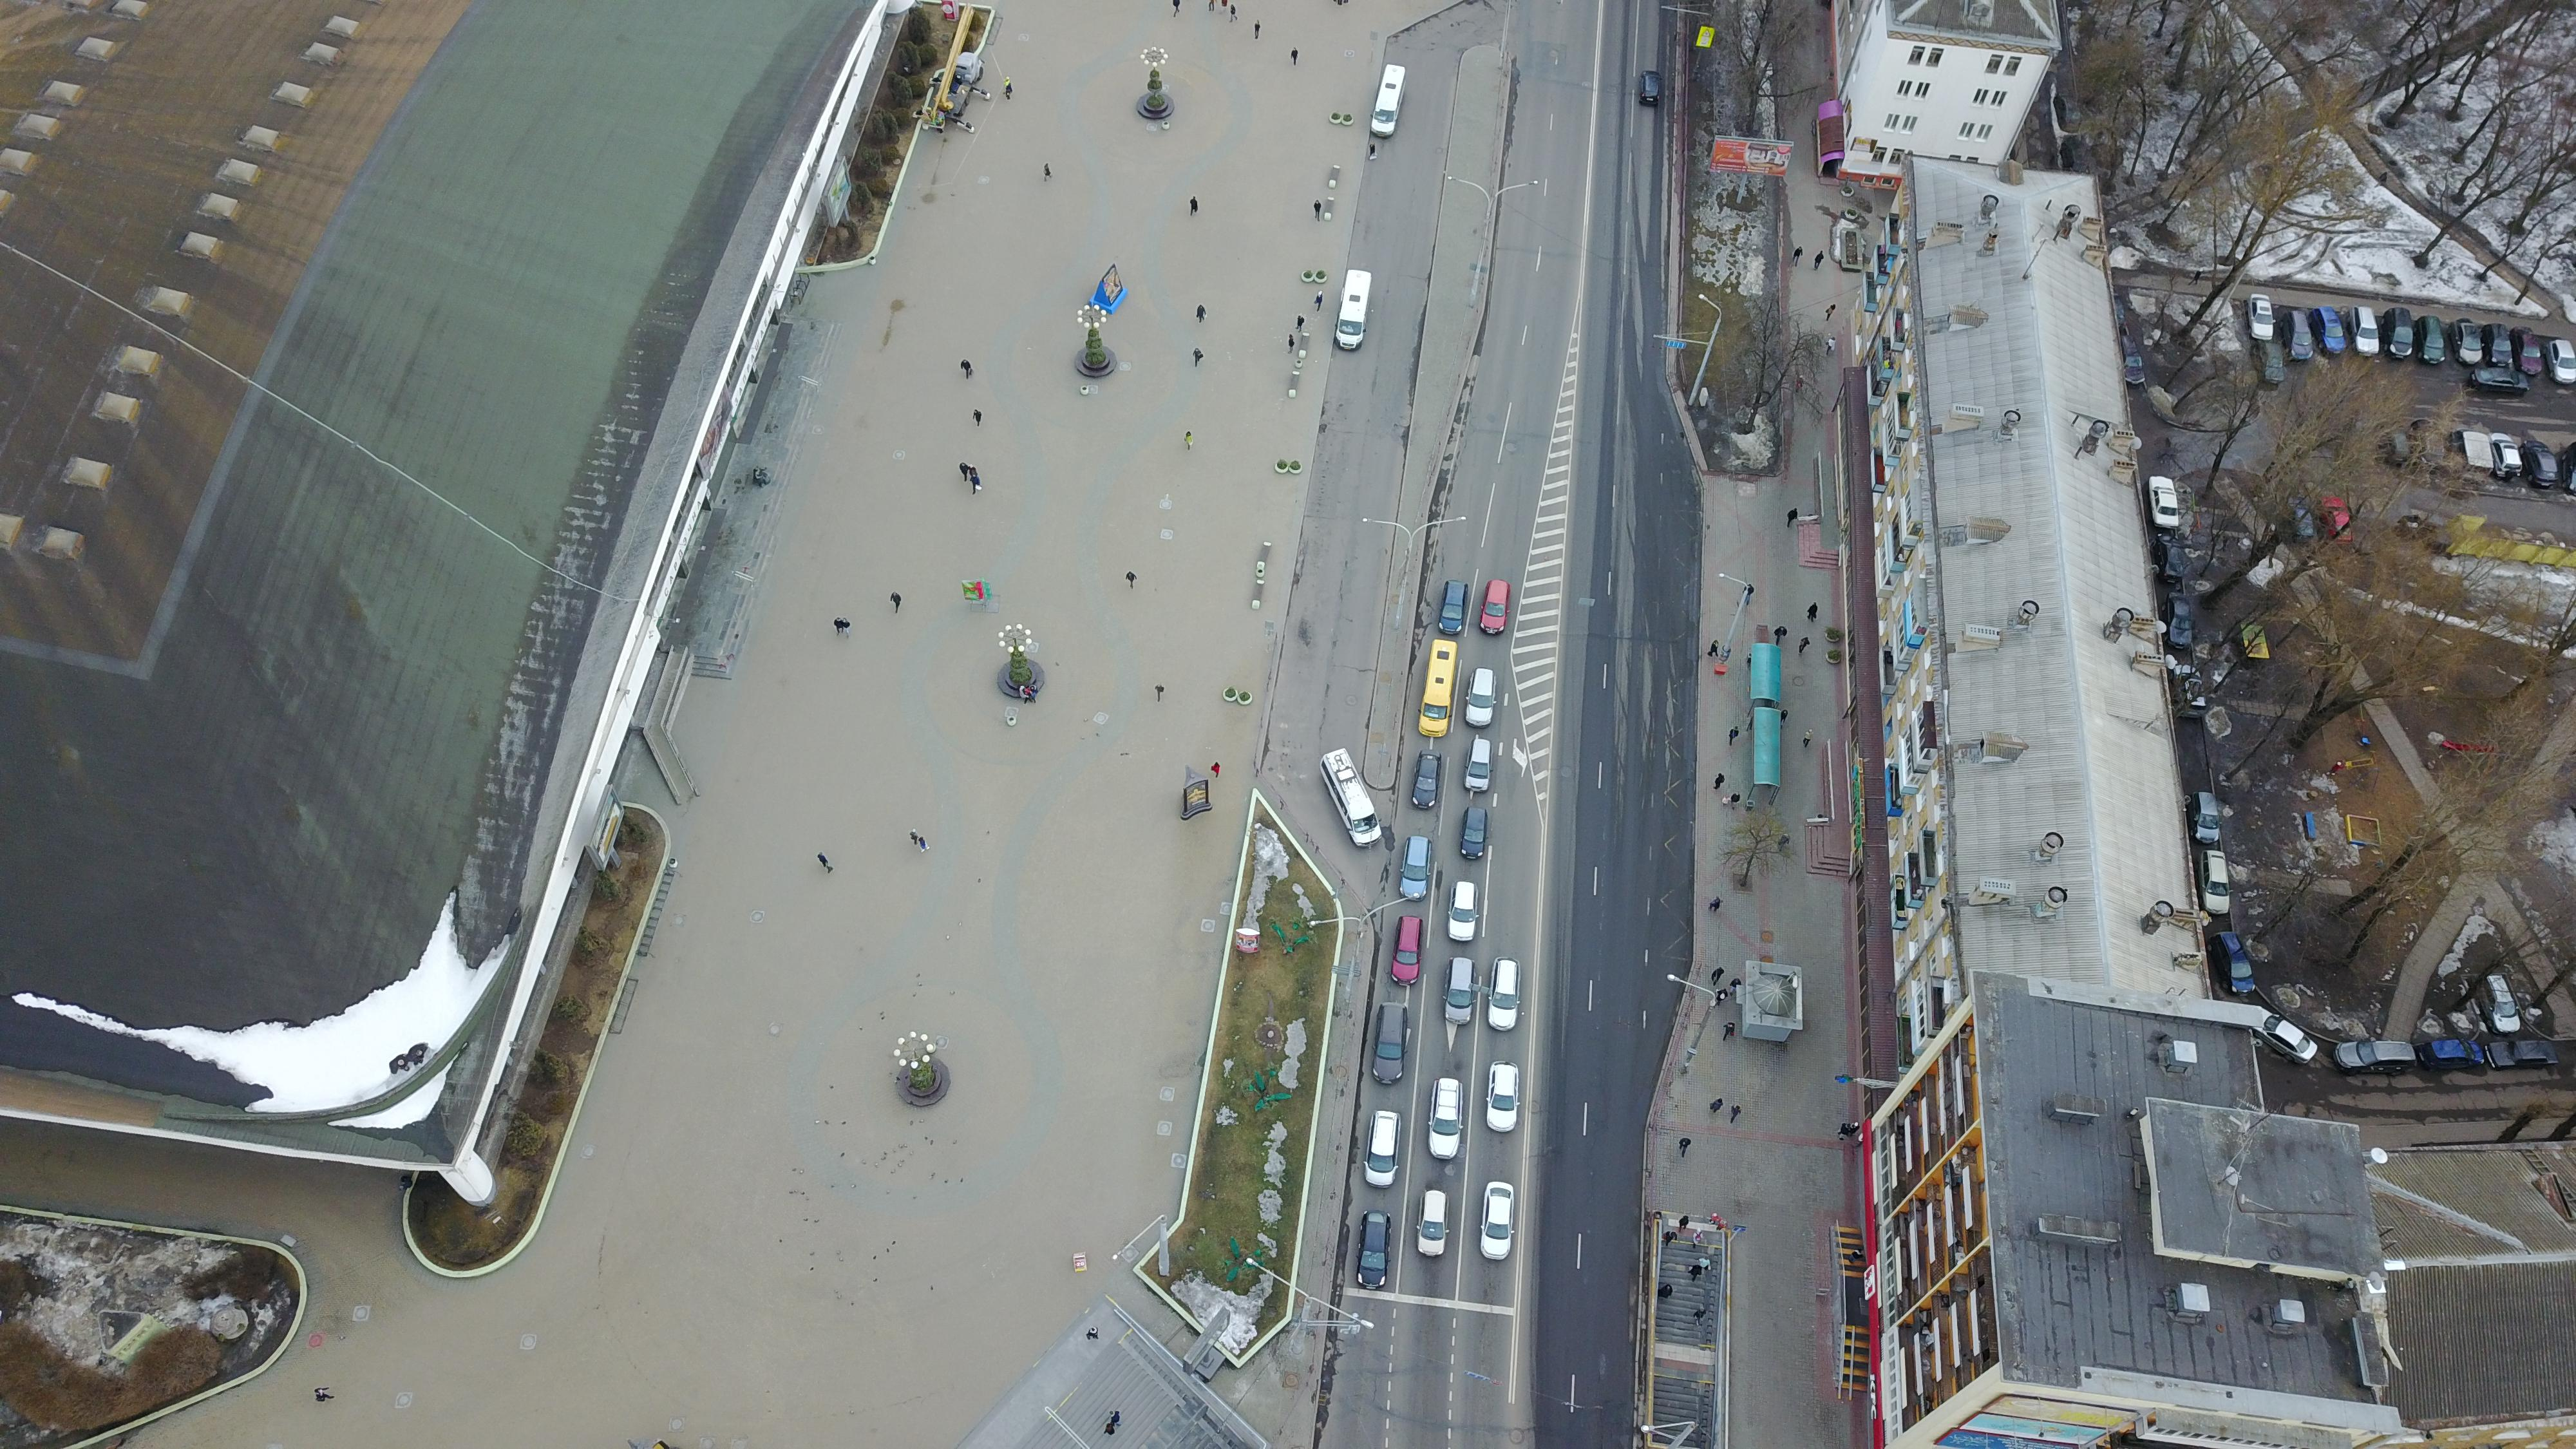car: (1476, 1177, 1520, 1265), (1353, 1201, 1394, 1293), (1369, 1000, 1410, 1085), (1361, 1108, 1403, 1189), (1426, 1074, 1465, 1161), (1484, 952, 1525, 1033), (1412, 1185, 1453, 1261), (1394, 833, 1440, 901), (1389, 911, 1426, 989), (1484, 1060, 1522, 1138), (1440, 954, 1476, 1028), (1454, 801, 1493, 867), (1444, 879, 1481, 943), (1463, 665, 1499, 731), (1477, 575, 1514, 635), (1407, 752, 1445, 809), (1437, 577, 1470, 639), (1463, 736, 1497, 794), (1638, 67, 1663, 110)
